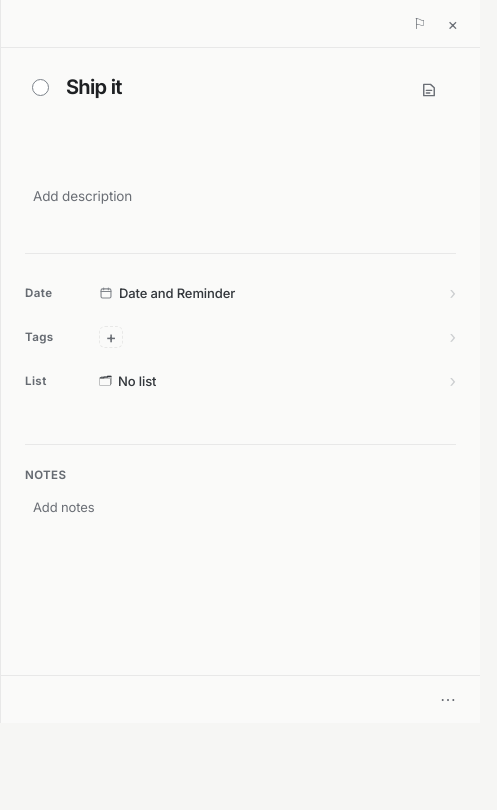
the sections a Task has to ask for › opens the subtask form
Expected: the field labelled "Add a subtask" is not shown
Click the button named "More": (448, 699) [432, 683, 464, 715]
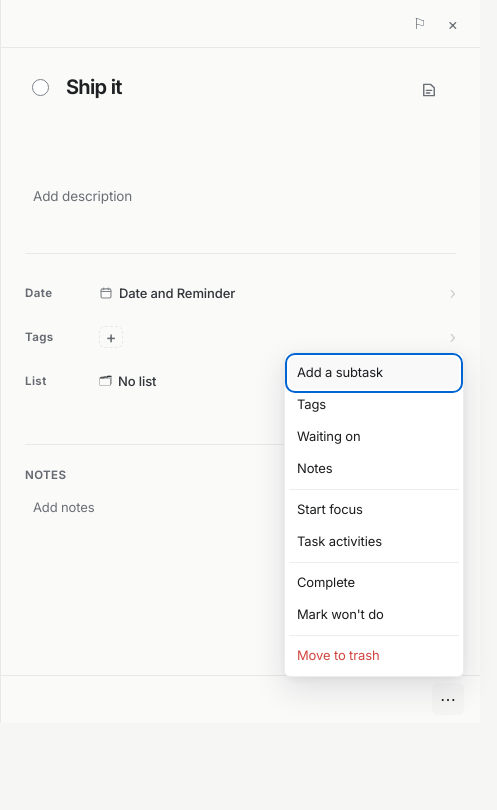
Click the menu item "Add a subtask": (374, 373) [289, 357, 459, 389]
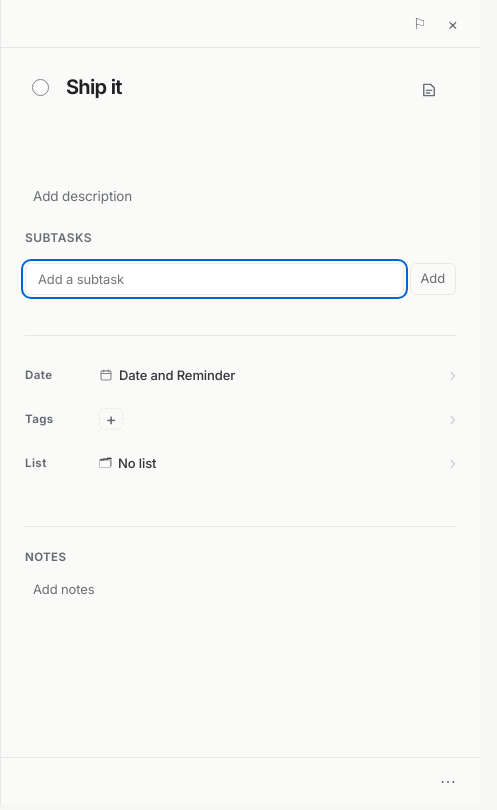
Result: the field labelled "Add a subtask" is shown at [25, 263, 404, 295]
